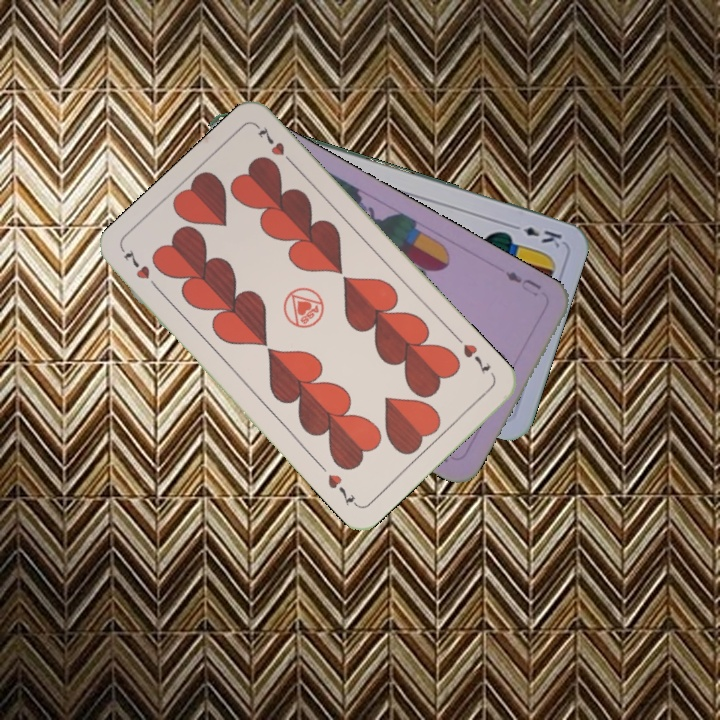EK: (506, 219, 565, 251)
EU: (501, 266, 544, 300)
H7: (119, 245, 163, 294), (459, 339, 493, 376)
